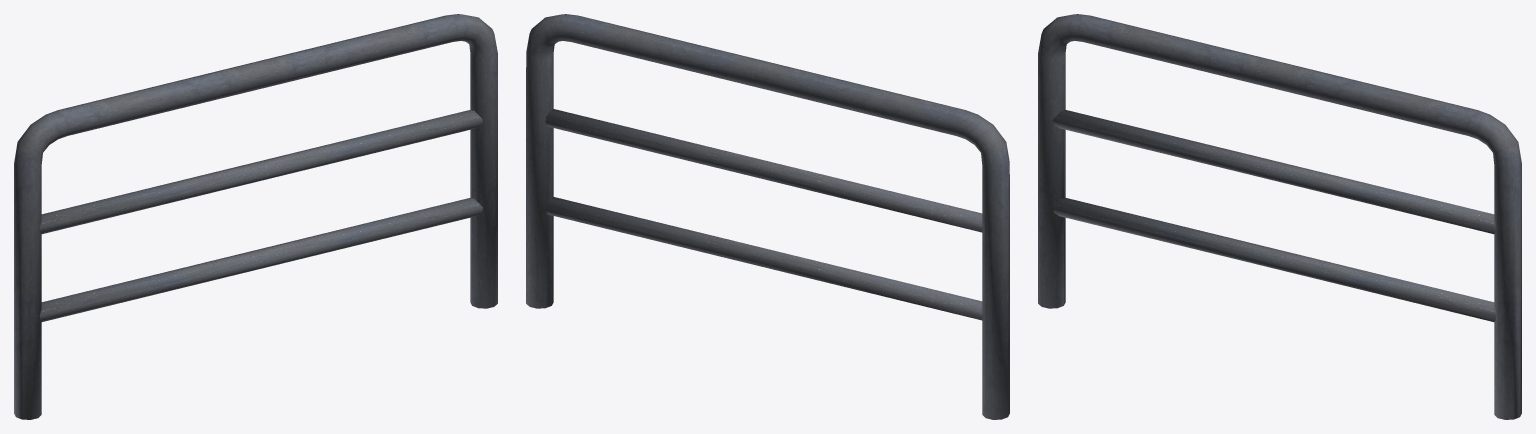
The model's file is ven_railing_LOD0.fbx.
The picture shows the model from 3 angles, left to right: view 1: azimuth 30°, elevation 25°; view 2: azimuth 150°, elevation 25°; view 3: azimuth 330°, elevation 25°; orthographic projection.
Parts seen in each view (by area): view 1: railing; view 2: railing; view 3: railing.
Part boxes in pixels (x1=…): railing: x1=14, y1=14, x2=497, y2=419; railing: x1=526, y1=14, x2=1009, y2=419; railing: x1=1038, y1=14, x2=1521, y2=419.
Bounding box in the file's own units: 1.28 × 0.7513 × 0.0609.
